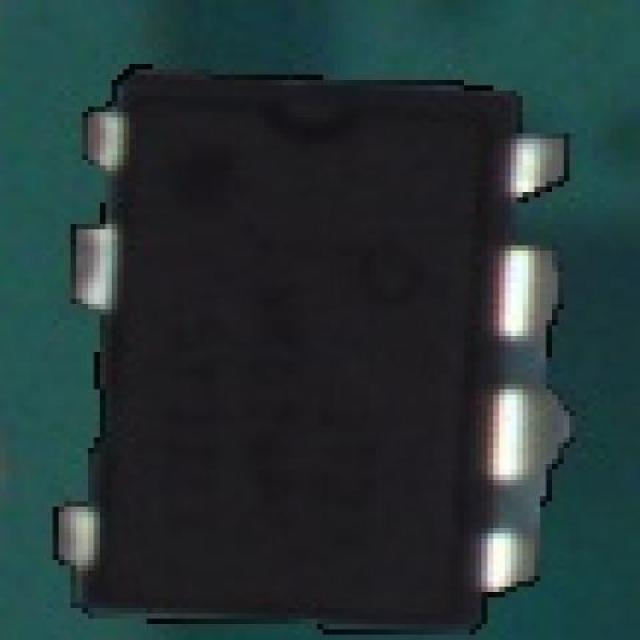IC: (62, 62, 540, 638)
